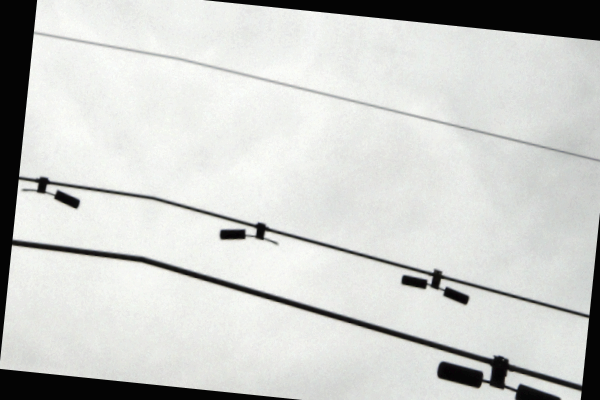damper: (433, 350, 561, 400), (398, 266, 471, 305)
damper_defect: (20, 175, 81, 210), (216, 218, 280, 248)
